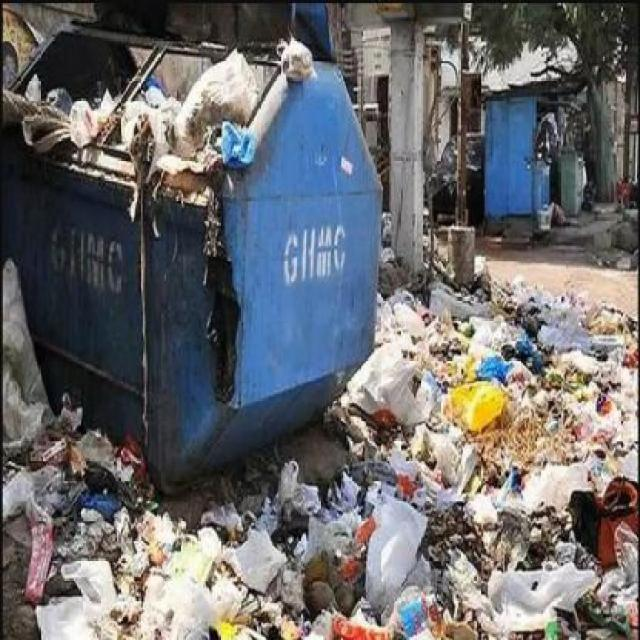garbage: (346, 266, 633, 600), (89, 514, 634, 635), (4, 407, 155, 640), (39, 69, 263, 190)
